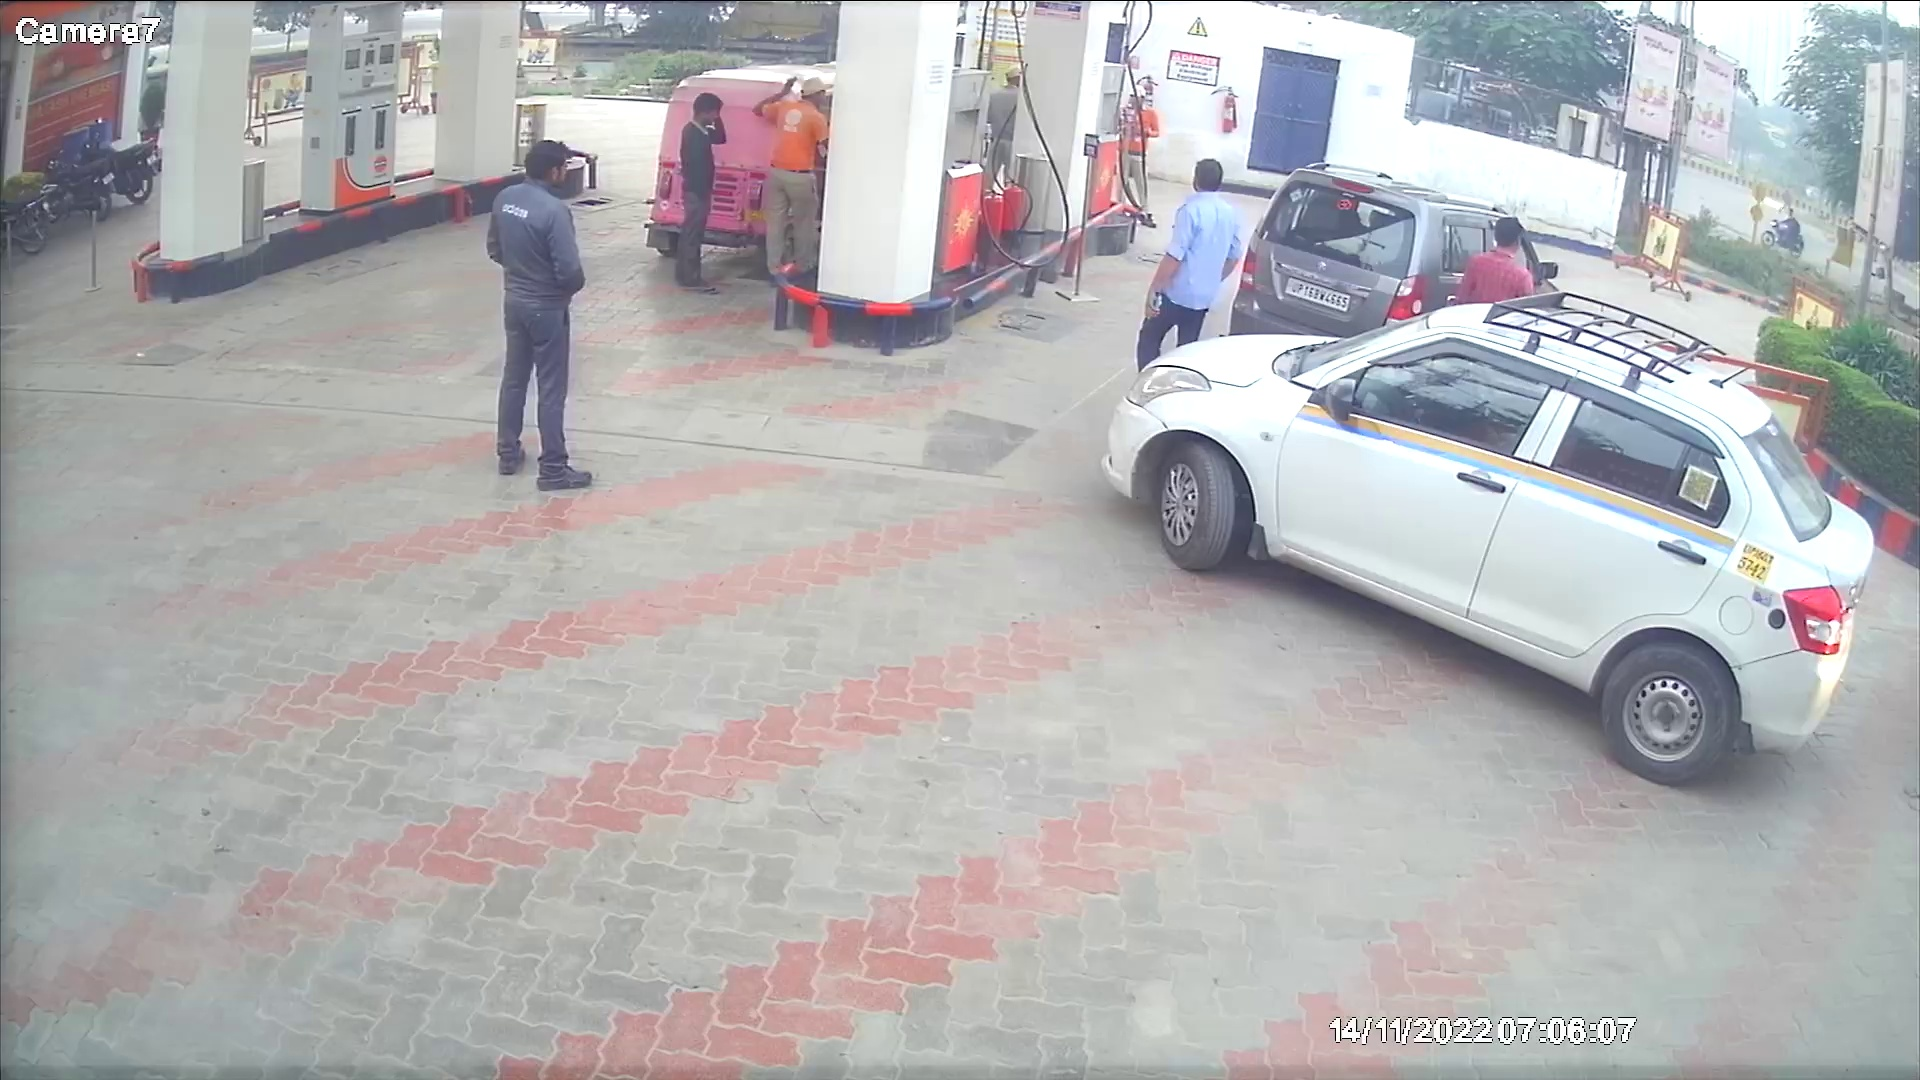Auto: (629, 55, 840, 291)
Bike: (5, 116, 160, 262), (1755, 198, 1813, 258)
Car: (1083, 286, 1883, 800), (1220, 156, 1567, 345)
Others: (752, 73, 827, 287), (982, 55, 1023, 200), (1120, 80, 1158, 229)
Others Other: (1055, 127, 1102, 307)
